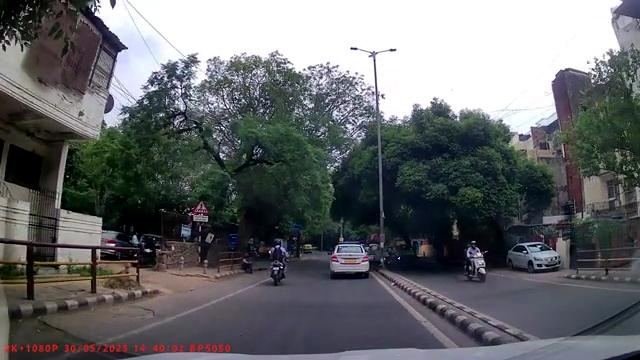motorcycle_with_helmet: (463, 239, 488, 283), (267, 238, 288, 286)
